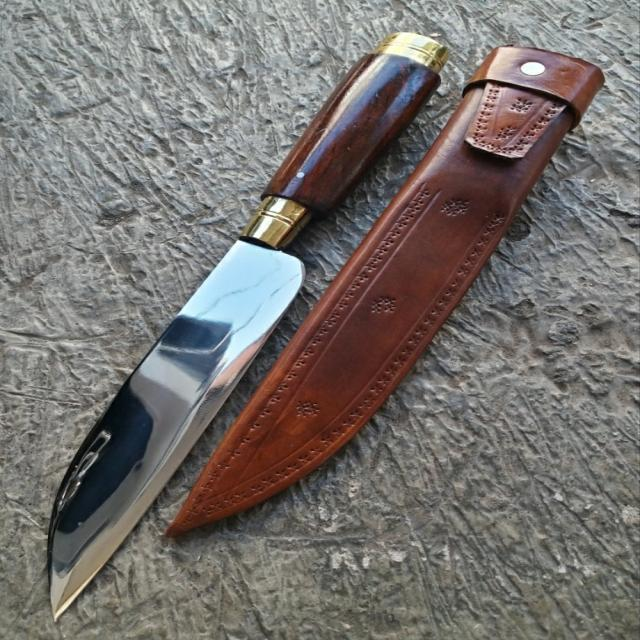Pisau: (33, 20, 470, 637)
